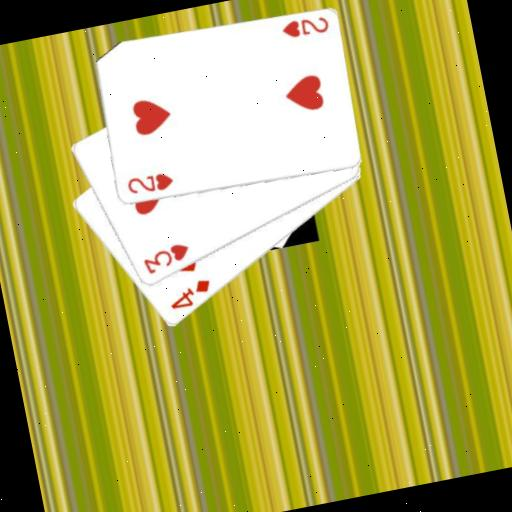2H: (122, 168, 176, 200), (277, 11, 331, 42)
3H: (137, 239, 194, 277)
4D: (163, 275, 215, 313)
